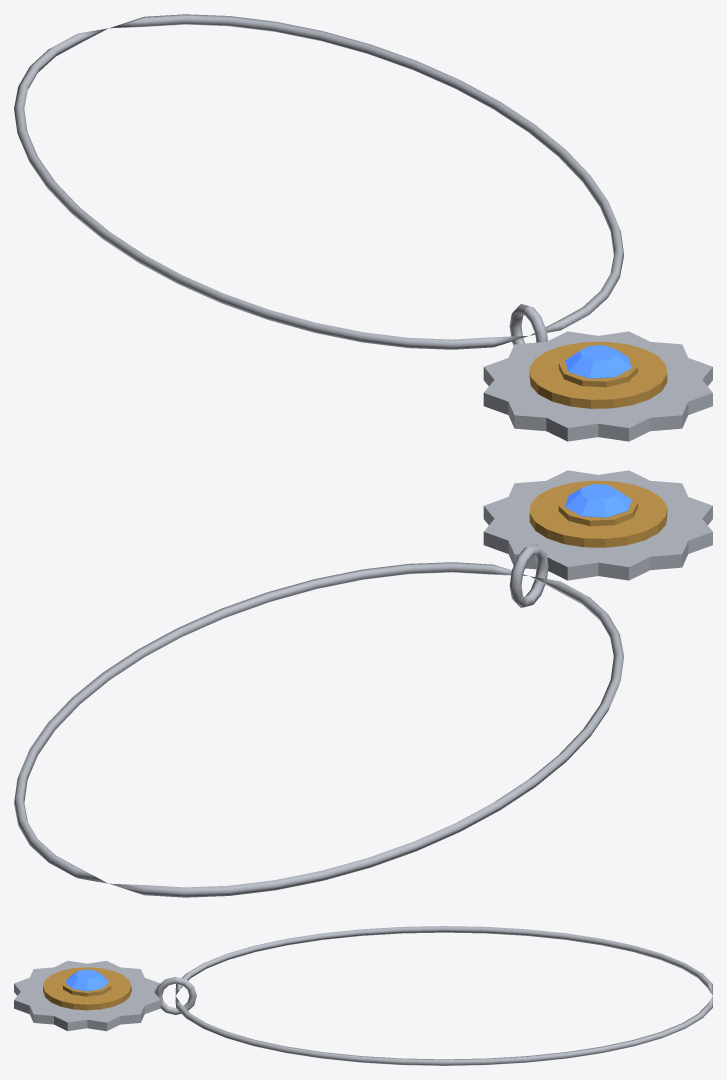
Rendered from amulet_intellect.glb.
The picture shows the model from 3 angles, top to bottom: view 1: azimuth 30°, elevation 25°; view 2: azimuth 150°, elevation 25°; view 3: azimuth 270°, elevation 25°; orthographic projection. The views are drawn at different scales.
Visible parts, largest first — view 1: Amulet_Intellect_Steel, Amulet_Intellect_Brass, Amulet_Intellect_Gem_intellect; view 2: Amulet_Intellect_Steel, Amulet_Intellect_Brass, Amulet_Intellect_Gem_intellect; view 3: Amulet_Intellect_Steel, Amulet_Intellect_Brass, Amulet_Intellect_Gem_intellect.
Part boxes in pixels (x1,y1,x2,y2): Amulet_Intellect_Steel: [14, 14, 712, 441]; Amulet_Intellect_Brass: [529, 341, 667, 408]; Amulet_Intellect_Gem_intellect: [565, 345, 631, 378]; Amulet_Intellect_Steel: [14, 470, 712, 897]; Amulet_Intellect_Brass: [529, 480, 667, 547]; Amulet_Intellect_Gem_intellect: [565, 484, 631, 517]; Amulet_Intellect_Steel: [14, 926, 712, 1065]; Amulet_Intellect_Brass: [43, 967, 131, 1010]; Amulet_Intellect_Gem_intellect: [65, 969, 108, 991].
Bounding box in the file's own units: 0.1021 × 0.0142 × 0.2212.
